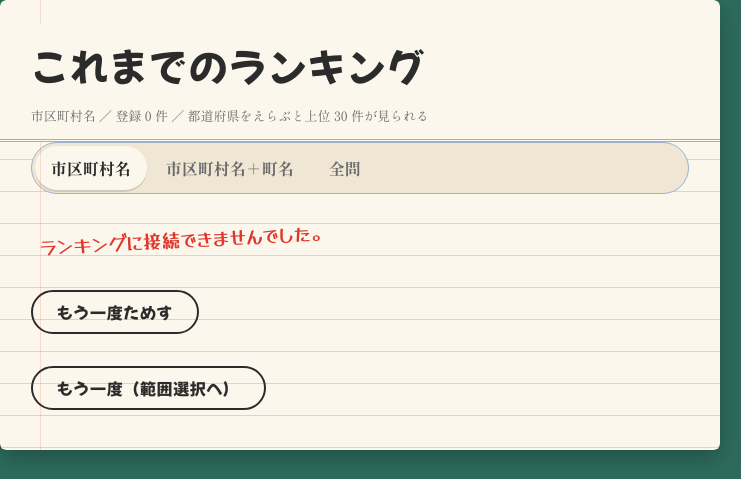
ストアが失敗したとき › 「もう一度ためす」で取り直し、2 回目に成功すれば一覧が出る
Check: the text "ランキングに接続できませんでした。" is shown, box [38,218,330,260]
Click the button "もう一度ためす".
click(115, 312)  # box [31,290,199,334]
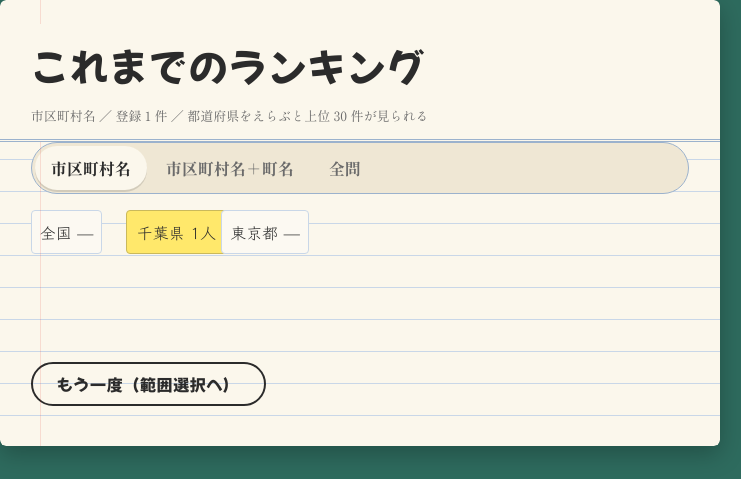
Check: the button with aria-label "千葉県 1人が回答（市区町村名）" is shown, box [126,210,227,254]
Check: the text "ランキングに接続できませんでした。" is gone
Check: the button "もう一度ためす" is gone
